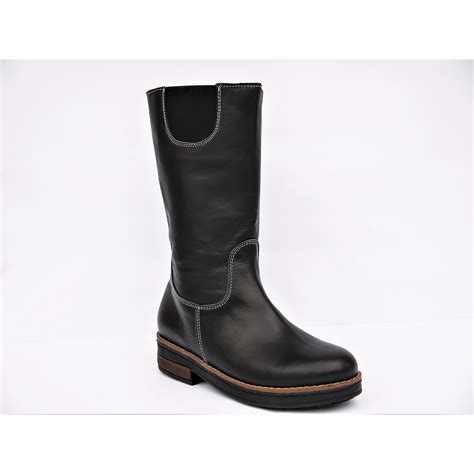cuero: (144, 83, 360, 388)
